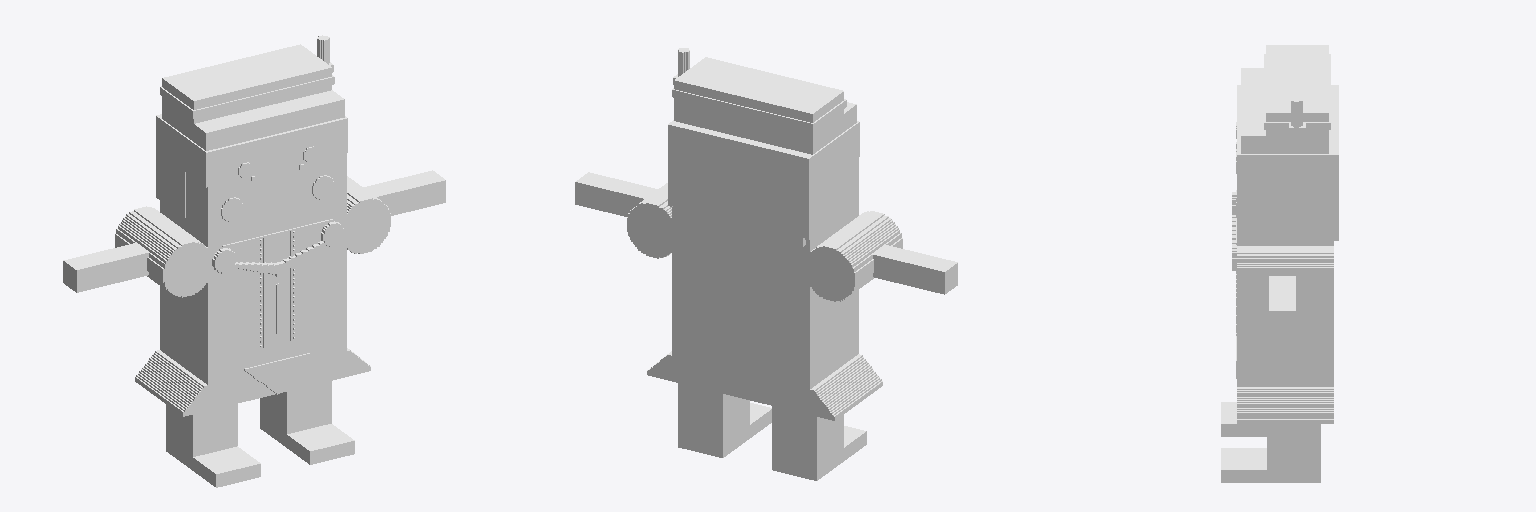
Rendered from TerenzioTPose.obj.
3 views of the same model, side by side, from view 1: azimuth 30°, elevation 25°; view 2: azimuth 150°, elevation 25°; view 3: azimuth 270°, elevation 25° (orthographic).
Parts seen in each view (by area): view 1: object 1; view 2: object 1; view 3: object 1.
Part boxes in pixels (bbox=[...]): object 1: bbox=[63, 35, 445, 487]; object 1: bbox=[575, 48, 957, 480]; object 1: bbox=[1221, 45, 1338, 482].
Size of the model in its own units: 25.6 by 25.6 by 7.1.